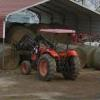Tractor: (22, 26, 88, 80)
